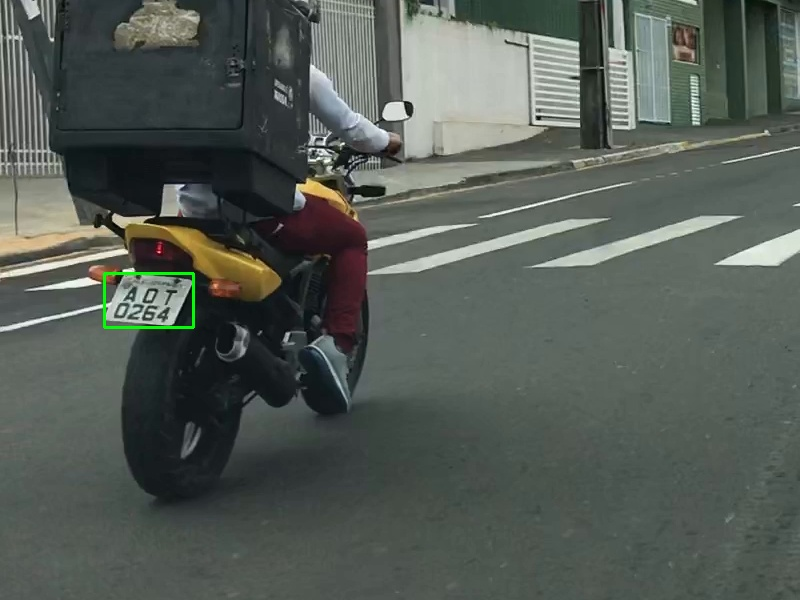placa: (104, 273, 193, 327)
